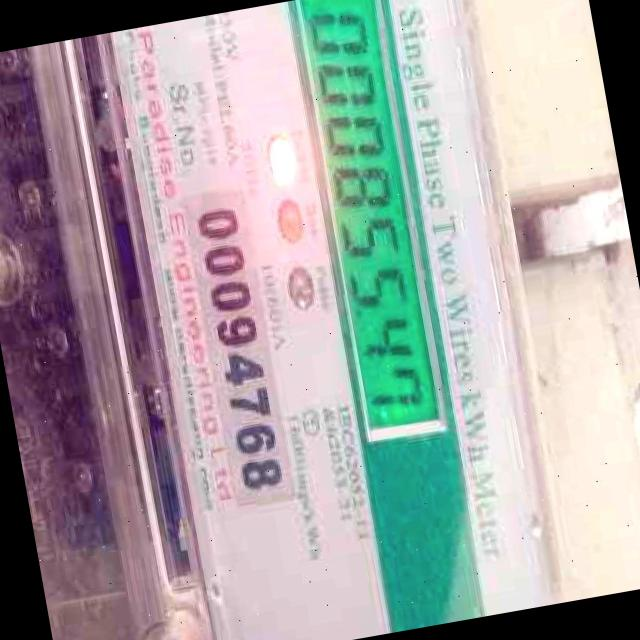LCD: (271, 0, 464, 463)
